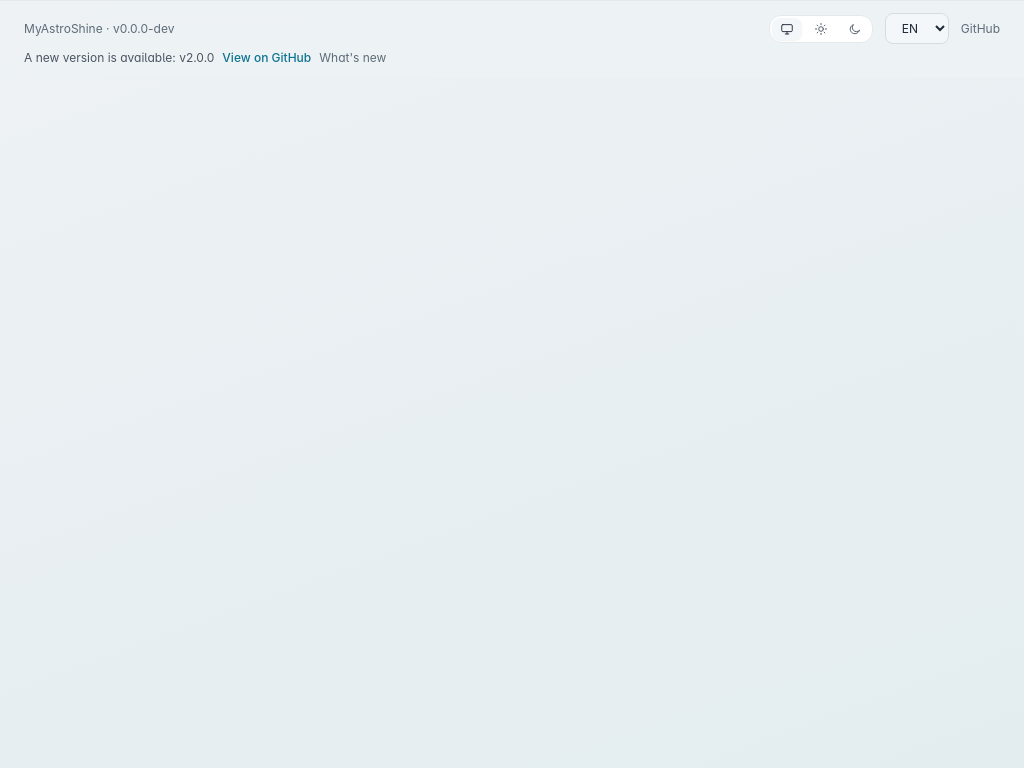
Test case: Footer › opens the release notes in a modal from "What's new"
The width and height of the screenshot is (1024, 768).
Expected: the text "A new version is available: v2.0.0" is shown, x1=24 y1=50 x2=214 y2=66
Click the button "What's new" at (353,58), box x1=319 y1=50 x2=386 y2=66
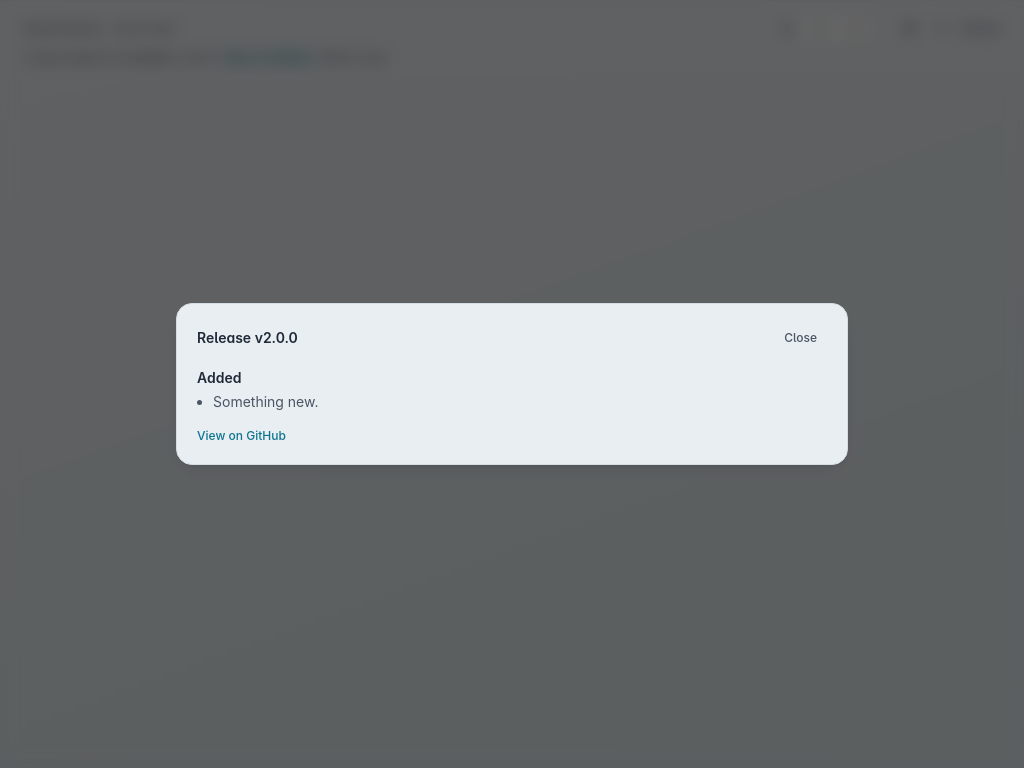
Now the dialog is shown
Now the heading "Added" is shown, box x1=197 y1=369 x2=242 y2=386
Now the list item "Something new." is shown, box x1=213 y1=393 x2=318 y2=410
